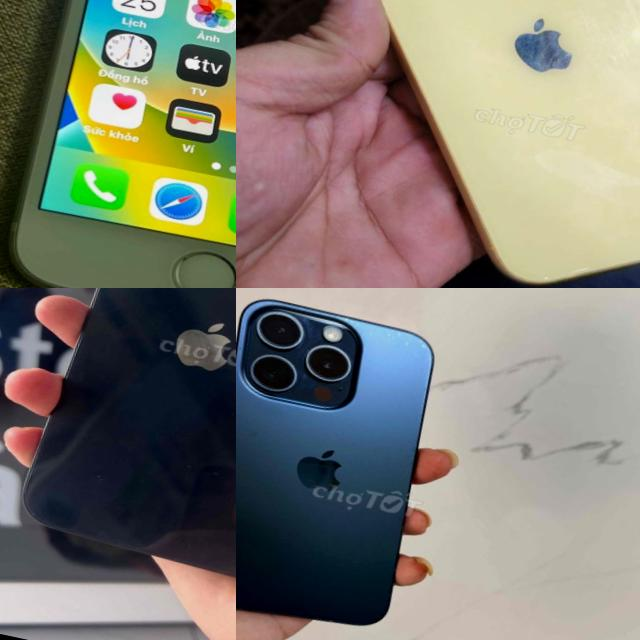gen_11: (255, 0, 640, 288)
gen_14: (5, 288, 236, 596)
gen_15: (236, 288, 468, 640)
gen_7_8: (0, 0, 236, 288)
